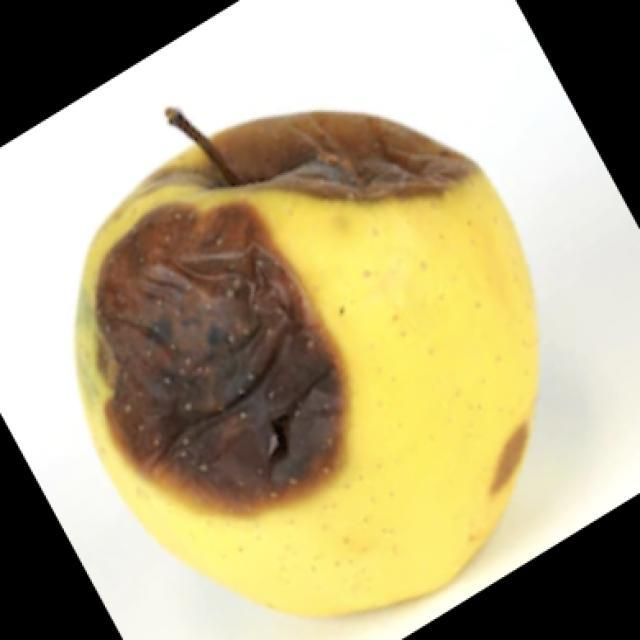Rotten: (70, 94, 547, 608)
